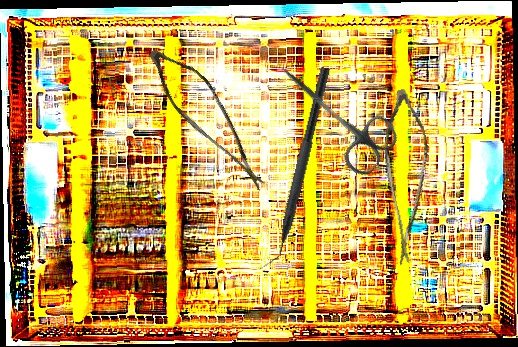Chopper: (259, 63, 331, 274)
Iris Scissors: (260, 45, 405, 182)
Micro Scissor: (127, 40, 296, 194), (364, 86, 452, 270)
